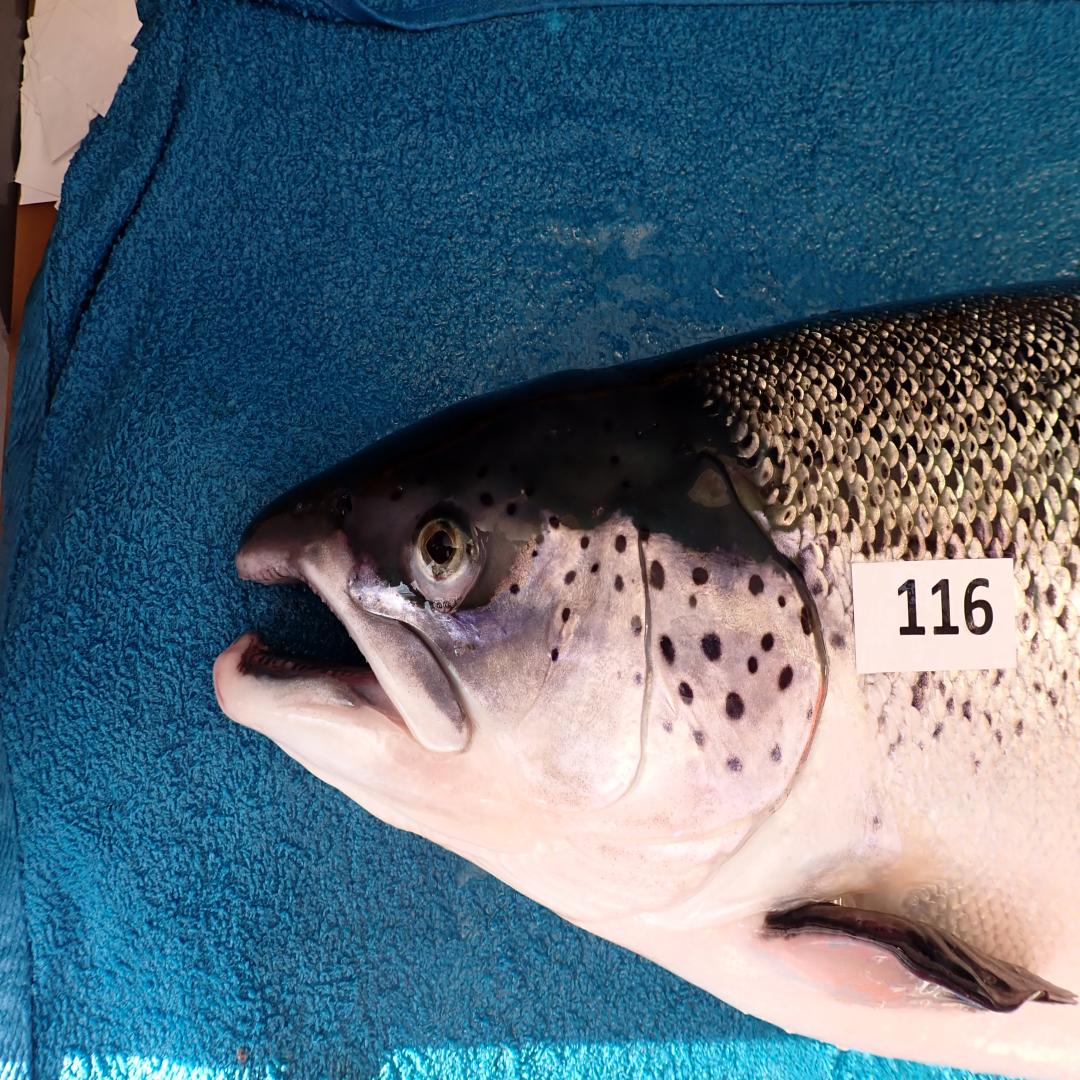roi: (467, 512, 831, 928)
